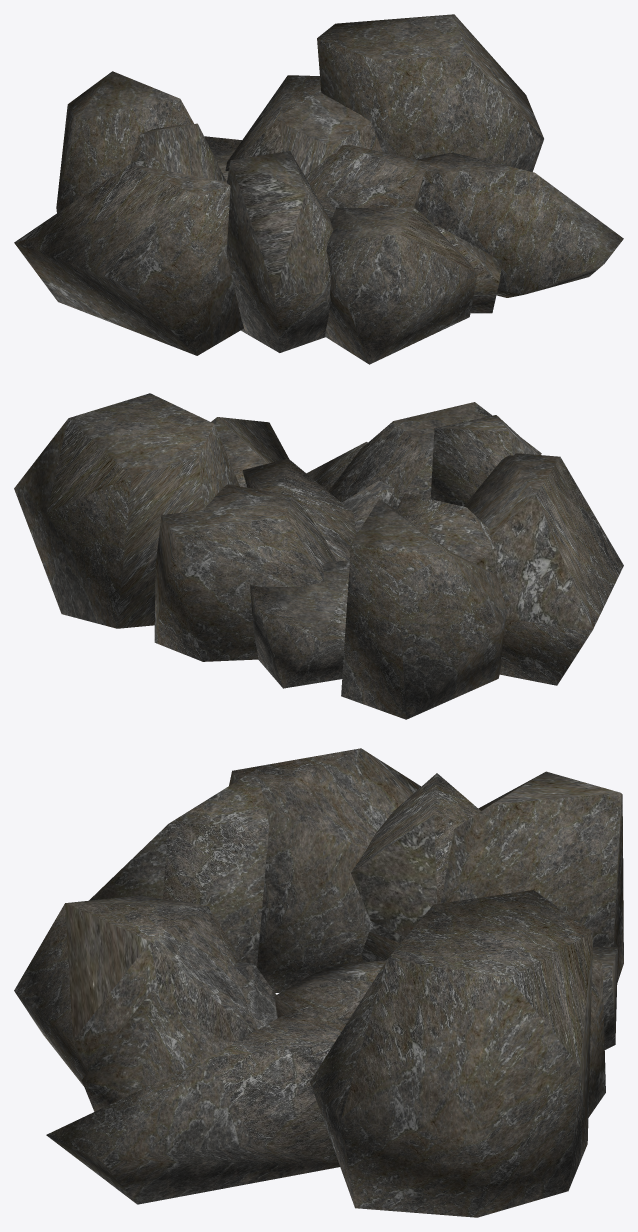
Rendered from scree_cluster_LOD2.fbx.
3 views of the same model, one above another, from view 1: azimuth 30°, elevation 25°; view 2: azimuth 150°, elevation 25°; view 3: azimuth 270°, elevation 25° (orthographic). The views are drawn at different scales.
Visible parts, largest first — view 1: scree_cluster_LOD2; view 2: scree_cluster_LOD2; view 3: scree_cluster_LOD2.
Boxes of the visible parts, x1,y1,x2,y2 form: scree_cluster_LOD2: (14,14,623,364); scree_cluster_LOD2: (14,393,623,719); scree_cluster_LOD2: (14,748,623,1217).
Bounding box in the file's own units: 419 × 129 × 307.
